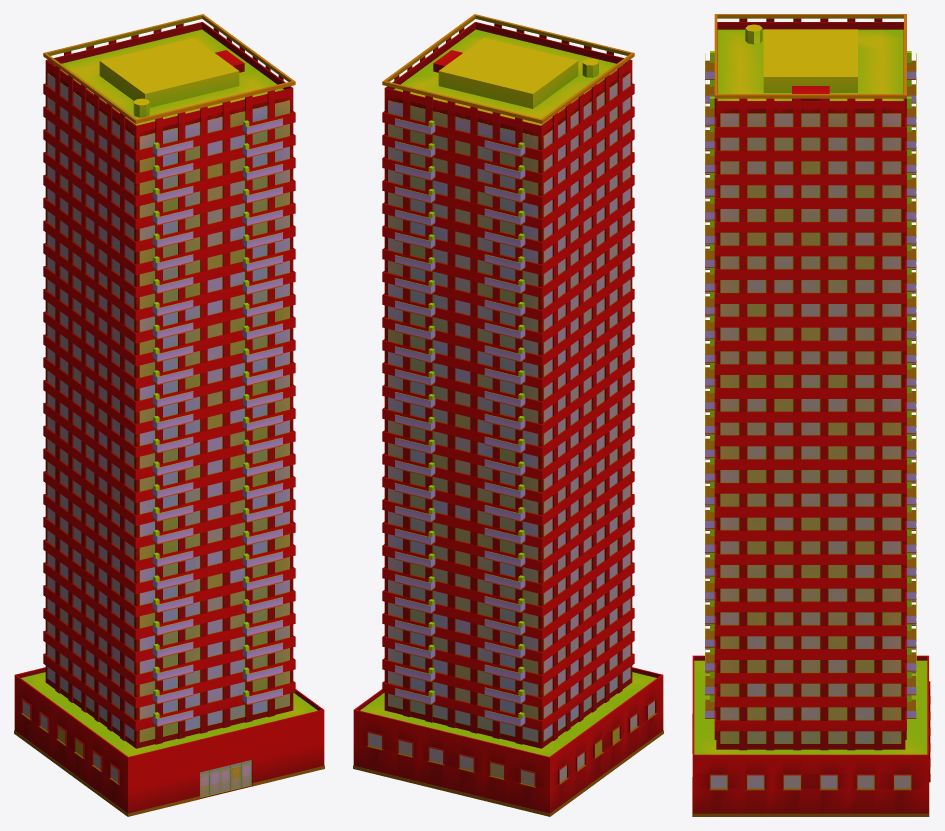
File: highrise.glb
3 renders of one model, left to right at view 1: azimuth 30°, elevation 25°; view 2: azimuth 150°, elevation 25°; view 3: azimuth 270°, elevation 25°, orthographic. The views are drawn at different scales.
Visible parts, largest first — view 1: highrise__tall__LOD0; view 2: highrise__tall__LOD0; view 3: highrise__tall__LOD0.
Boxes of the visible parts, left/top/right/bottom form: highrise__tall__LOD0: left=14, top=14, right=324, bottom=816; highrise__tall__LOD0: left=353, top=14, right=663, bottom=816; highrise__tall__LOD0: left=692, top=14, right=930, bottom=816.
Size of what is drawn, in the model's own units: 30.48 by 100 by 30.29.
